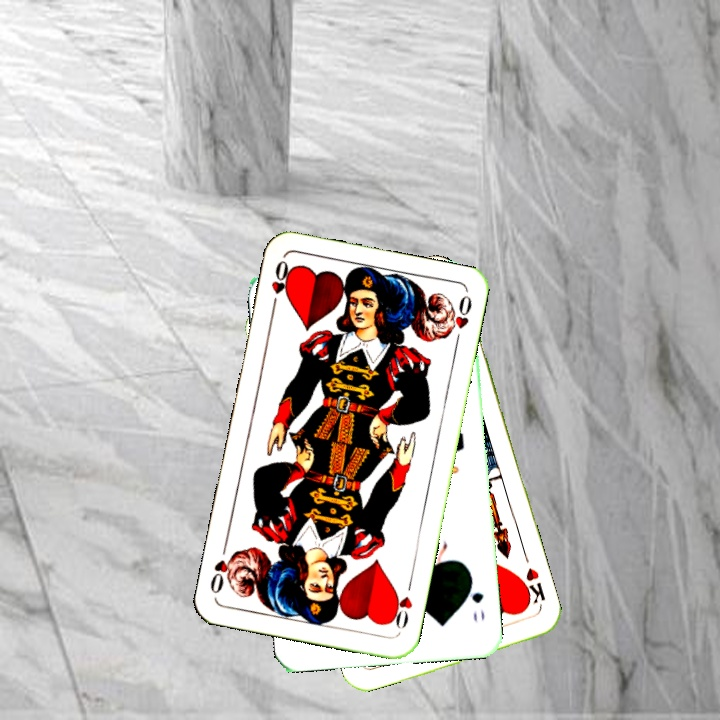GO: (464, 573, 487, 624)
HK: (515, 564, 548, 615)
HO: (386, 576, 415, 632), (267, 256, 295, 313)
